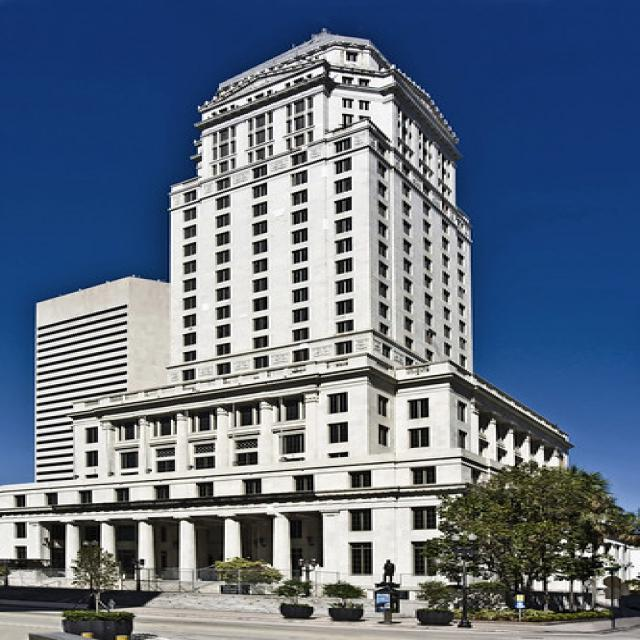Normal_building: (64, 24, 578, 620)
